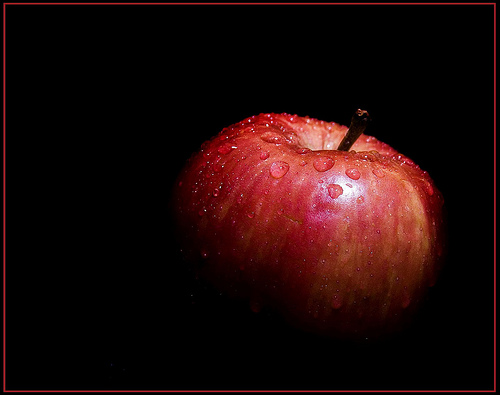apple: (173, 108, 438, 335)
